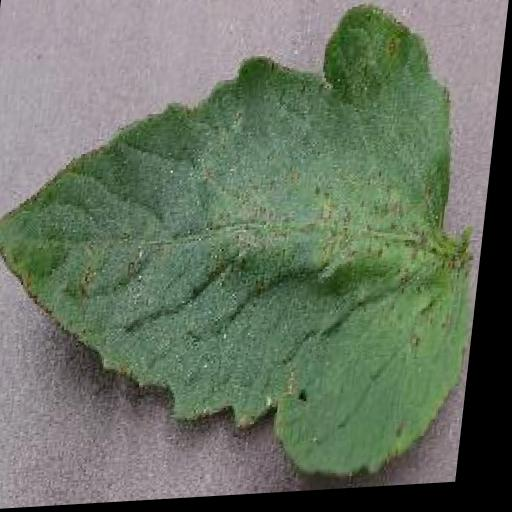Bacterial Spot: (0, 0, 509, 502)
